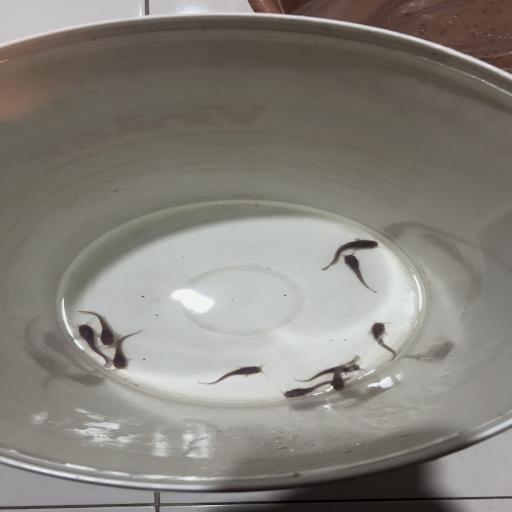lele: (317, 236, 383, 272), (194, 362, 270, 387), (72, 323, 114, 368), (279, 378, 353, 400), (77, 308, 119, 346), (344, 252, 380, 294), (292, 363, 366, 383), (110, 329, 144, 371), (368, 318, 400, 361), (327, 354, 363, 392)
